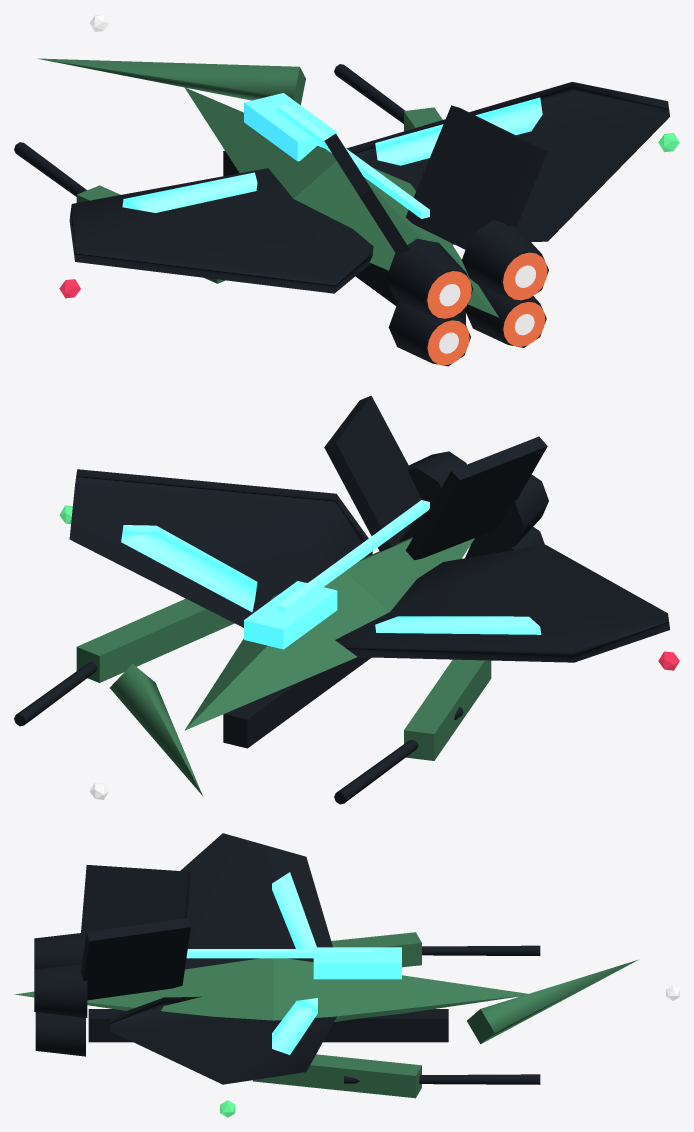
The model's file is interceptor.glb.
3 renders of one model, top to bottom at view 1: azimuth 30°, elevation 25°; view 2: azimuth 150°, elevation 25°; view 3: azimuth 270°, elevation 25°, orthographic. The views are drawn at different scales.
Visible parts, largest first — view 1: port_crescent_claw_wing, starboard_crescent_claw_wing, starboard_tall_canted_tail_fin, needle_core_octahedral_body, extra_long_stinger_nose, starboard_upper_interceptor_engine_bell, port_upper_interceptor_engine_bell, starboard_inner_teal_claw_light, narrow_cyan_predator_canopy, port_inner_teal_claw_light, port_lower_interceptor_engine_bell, port_tall_canted_tail_fin (+10 smaller); view 2: starboard_crescent_claw_wing, port_crescent_claw_wing, needle_core_octahedral_body, port_tall_canted_tail_fin, starboard_tall_canted_tail_fin, starboard_side_weapon_spar, port_side_weapon_spar, starboard_inner_teal_claw_light, black_ventral_knife_keel, narrow_cyan_predator_canopy, extra_long_stinger_nose, port_inner_teal_claw_light (+6 smaller); view 3: needle_core_octahedral_body, port_crescent_claw_wing, starboard_crescent_claw_wing, starboard_tall_canted_tail_fin, port_tall_canted_tail_fin, black_ventral_knife_keel, starboard_side_weapon_spar, extra_long_stinger_nose, starboard_upper_interceptor_engine_bell, narrow_cyan_predator_canopy, starboard_lower_interceptor_engine_bell, aggressive_teal_dorsal_spine (+6 smaller).
Part boxes in pixels (box(x1,y1,x2,y2)): port_crescent_claw_wing: box(69, 168, 373, 293); starboard_crescent_claw_wing: box(346, 82, 669, 244); starboard_tall_canted_tail_fin: box(405, 105, 547, 249); needle_core_octahedral_body: box(184, 87, 498, 317); extra_long_stinger_nose: box(38, 58, 305, 105); starboard_upper_interceptor_engine_bell: box(462, 220, 548, 301); port_upper_interceptor_engine_bell: box(386, 238, 473, 319); starboard_inner_teal_claw_light: box(375, 97, 542, 165); narrow_cyan_predator_canopy: box(244, 93, 337, 161); port_inner_teal_claw_light: box(122, 172, 257, 212); port_lower_interceptor_engine_bell: box(388, 302, 470, 366); port_tall_canted_tail_fin: box(324, 133, 409, 255); starboard_crescent_claw_wing: box(69, 469, 372, 627); port_crescent_claw_wing: box(335, 544, 669, 662); needle_core_octahedral_body: box(184, 537, 474, 730); port_tall_canted_tail_fin: box(406, 436, 547, 560); starboard_tall_canted_tail_fin: box(324, 395, 421, 551); starboard_side_weapon_spar: box(76, 598, 234, 682); port_side_weapon_spar: box(404, 659, 491, 760); starboard_inner_teal_claw_light: box(121, 525, 257, 612); black_ventral_knife_keel: box(223, 657, 371, 748); narrow_cyan_predator_canopy: box(244, 581, 337, 649); extra_long_stinger_nose: box(110, 664, 202, 795); port_inner_teal_claw_light: box(375, 616, 541, 634); needle_core_octahedral_body: box(14, 958, 528, 1021); port_crescent_claw_wing: box(180, 833, 332, 969); starboard_crescent_claw_wing: box(110, 996, 336, 1084); starboard_tall_canted_tail_fin: box(81, 918, 190, 1000); port_tall_canted_tail_fin: box(81, 865, 190, 933); black_ventral_knife_keel: box(88, 1009, 448, 1042); starboard_side_weapon_spar: box(253, 1054, 421, 1098); extra_long_stinger_nose: box(467, 959, 638, 1044); starboard_upper_interceptor_engine_bell: box(34, 963, 87, 1017); narrow_cyan_predator_canopy: box(313, 947, 401, 979); starboard_lower_interceptor_engine_bell: box(35, 1012, 85, 1056); aggressive_teal_dorsal_spine: box(186, 949, 372, 958).
Bounding box in the file's own units: 7.15 × 1.96 × 8.14.
